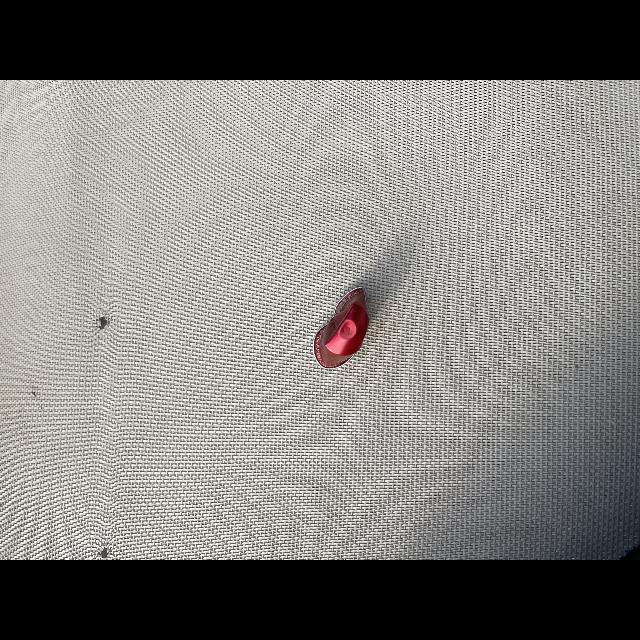damaged_capsule: (308, 288, 384, 372)
